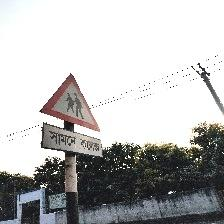College-in-front: (37, 73, 123, 172)
